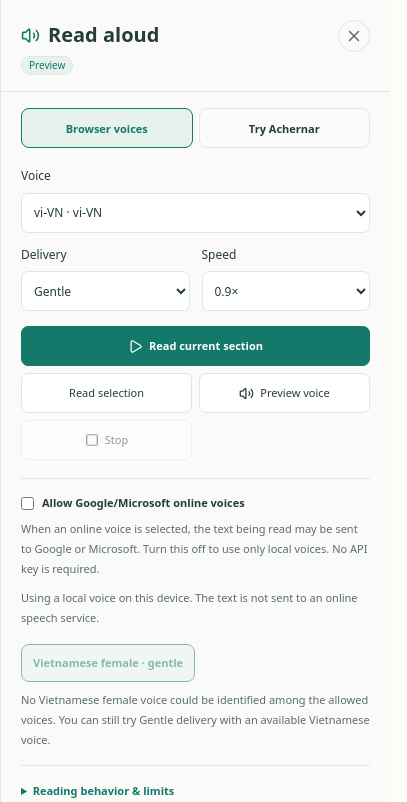
Test: read aloud panel › shows unavailable online voices honestly and keeps the local fallback
Step 1. Click the checkbox labelled "Allow Google/Microsoft online voices" → (28, 504), box top-left (21, 497), bottom-right (34, 510)
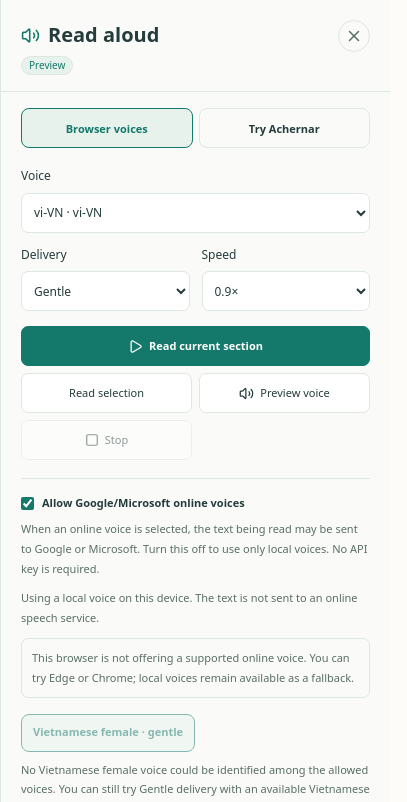
Check: the text "Using a local voice" is shown, box top-left (21, 590), bottom-right (358, 625)
Check: the text "not offering a supported online voice" is shown, box top-left (32, 650), bottom-right (354, 685)
Step 2. Click the button "Preview voice" → (284, 393), box top-left (199, 373), bottom-right (370, 413)
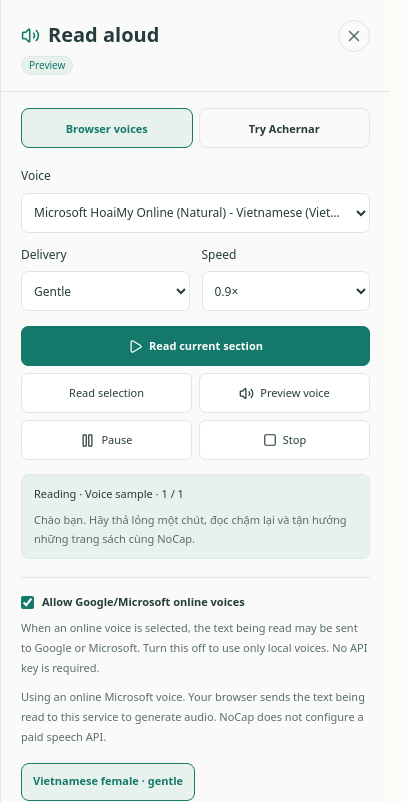
Check: the text "not offering a supported online voice" is gone
